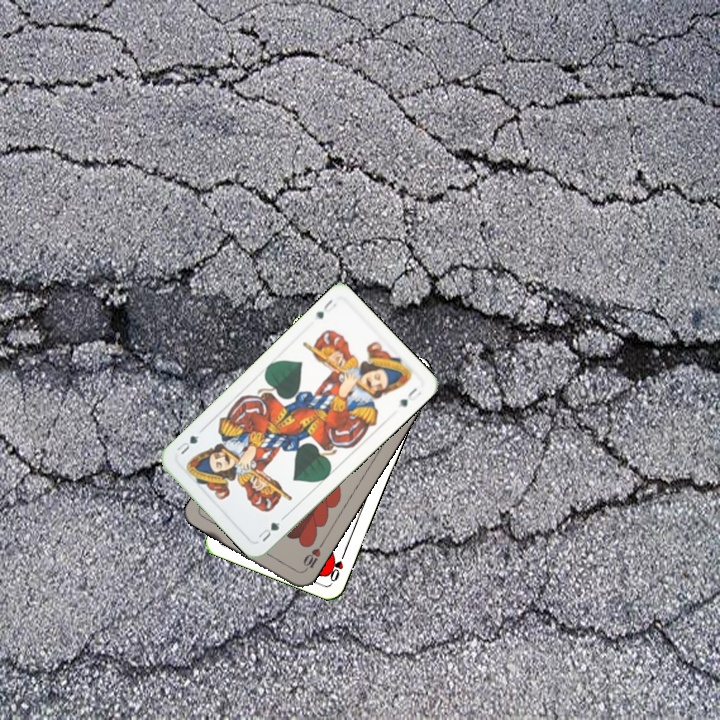GU: (254, 518, 283, 545), (311, 295, 339, 321)
H10: (298, 539, 326, 575)
HO: (326, 546, 349, 584)
